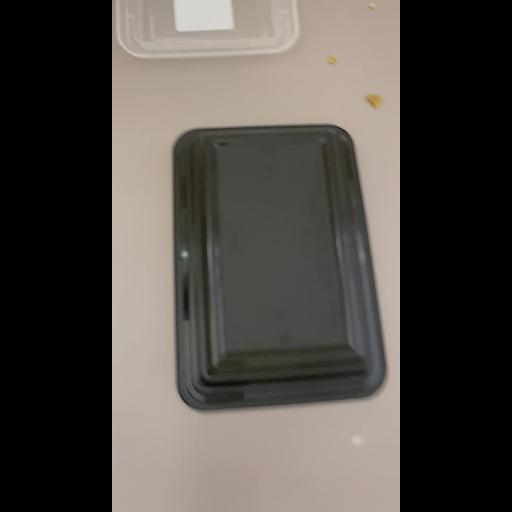rigid_plastic_container: (164, 120, 392, 426)
